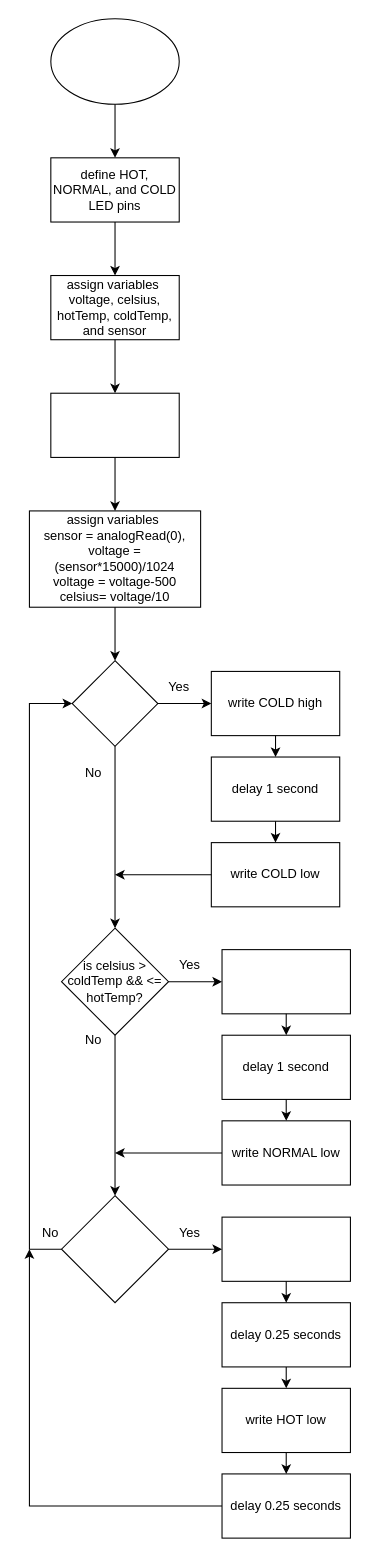
The diagram is 369 pixels wide and 1557 high, and some of its shapes have lost their labels. The shapes that lost their labels are listed below. From the top down, each one's box as (x1, y1, x2, y2) in pixels, then its label:
(50, 18, 179, 104): Start
(50, 392, 179, 457): set pins HOT, NORMAL, and COLD as outputs
(71, 660, 158, 746): is celsius > coldTemp?
(221, 949, 350, 1014): write NORMAL high
(60, 1195, 169, 1303): is celsius > hotTemp?
(221, 1216, 350, 1281): write HOT high
